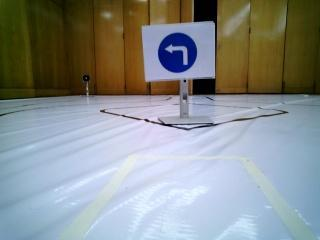left: (149, 29, 212, 76)
